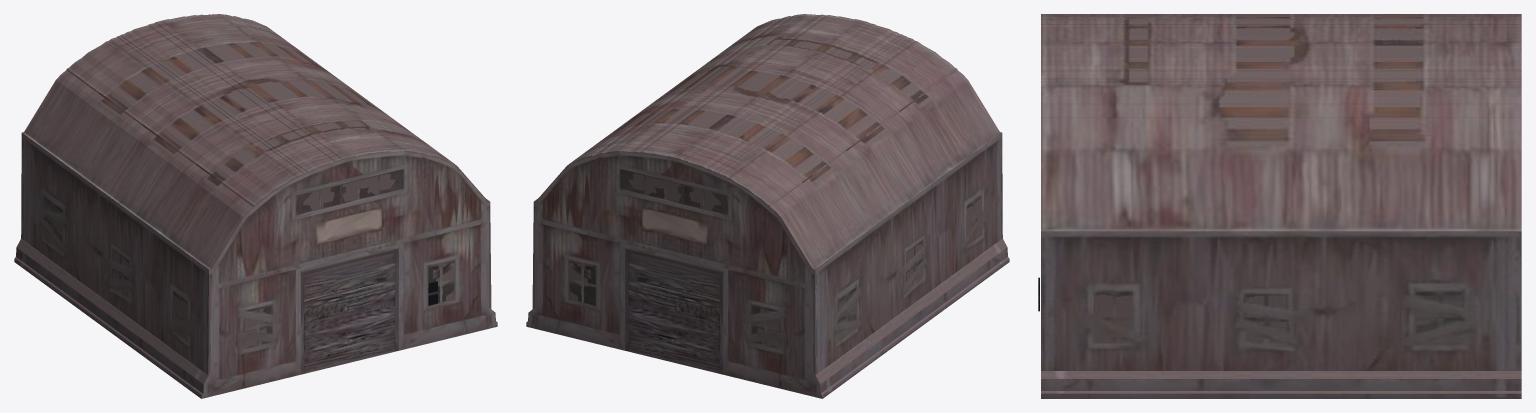
Rendered from bg_industrial_hangar_1_lod0.glb.
3 renders of one model, left to right at view 1: azimuth 30°, elevation 25°; view 2: azimuth 150°, elevation 25°; view 3: azimuth 270°, elevation 25°, orthographic. The views are drawn at different scales.
Visible parts, largest first — view 1: body; view 2: body; view 3: body.
Boxes of the visible parts, left/top/right/bottom form: body: left=14, top=14, right=497, bottom=398; body: left=526, top=14, right=1009, bottom=398; body: left=1041, top=14, right=1521, bottom=398.
Size of the model in its own units: 10 by 6.62 by 11.
2 materials, 1 textured.
